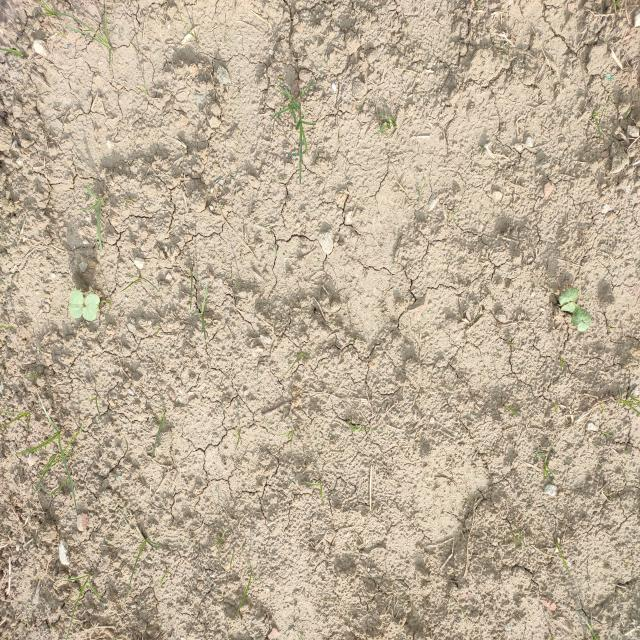seedling_s2: (83, 294, 100, 321), (69, 290, 83, 319), (558, 287, 578, 304), (571, 309, 587, 326), (578, 312, 591, 332), (561, 302, 579, 313)
